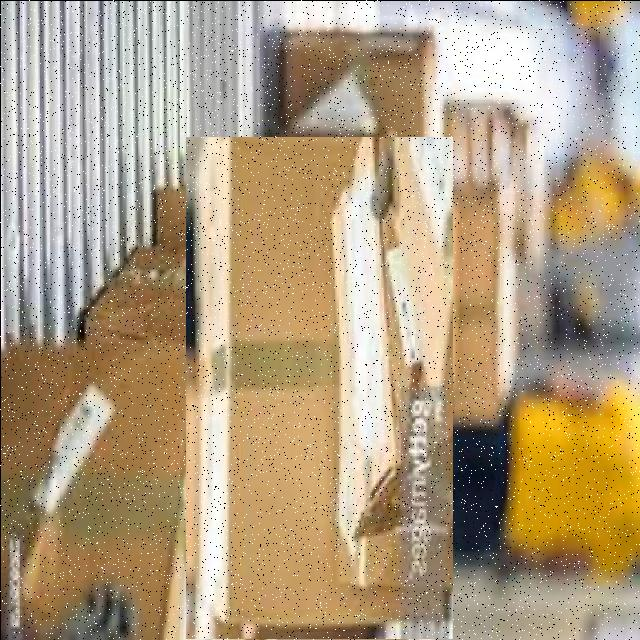normal: (185, 136, 452, 638)
